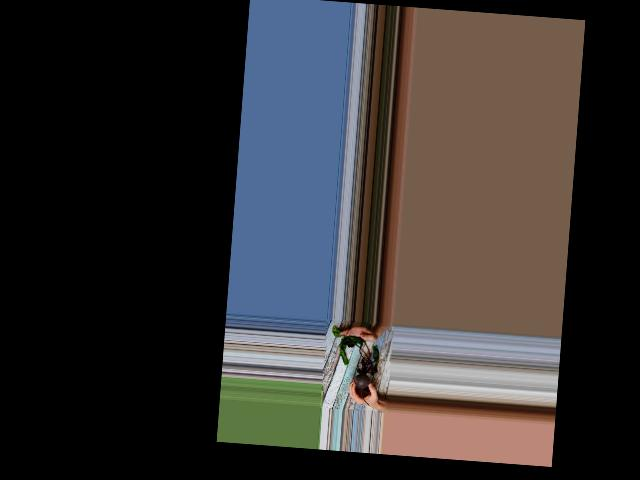beet: (326, 326, 380, 406)
